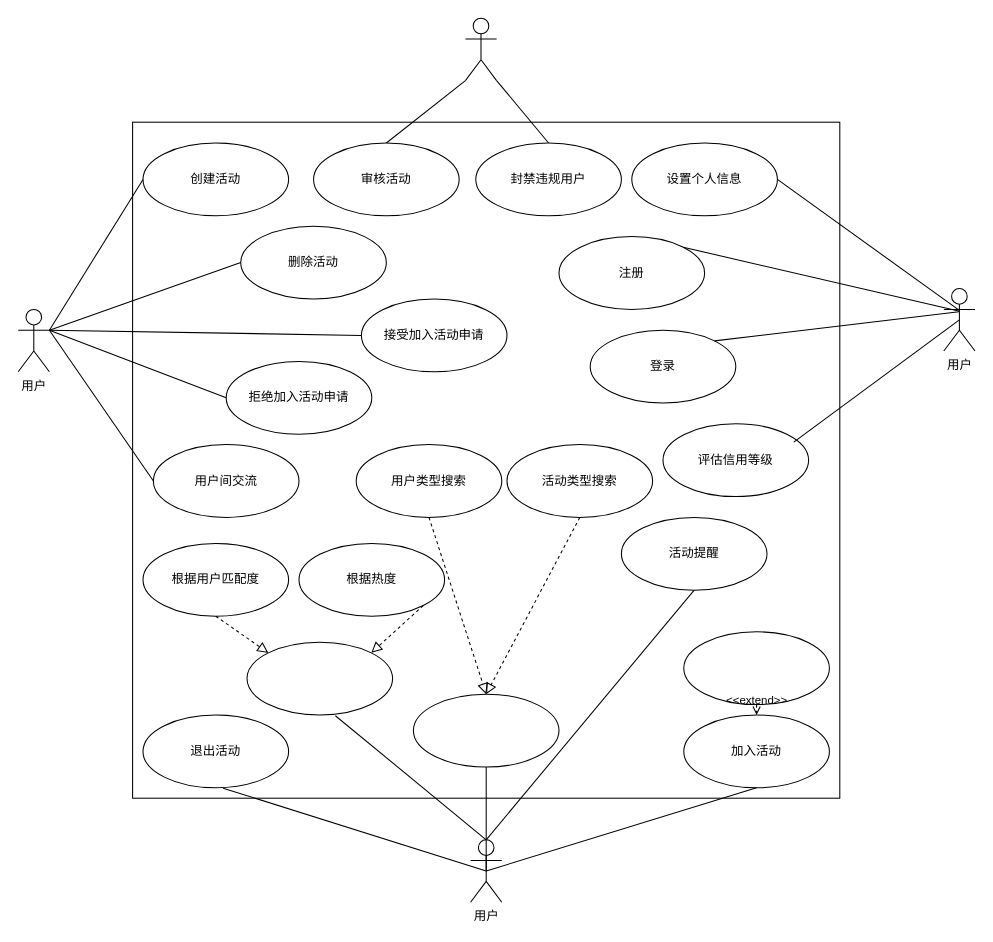
Image size: 993x942. Some labels were removed from this diagram. The centre of each missing label's shape, as x and y in pixels:
匹配推送: (319,678)
搜索活动: (485,730)
查看活动详情: (756,668)
管理员: (480,49)
